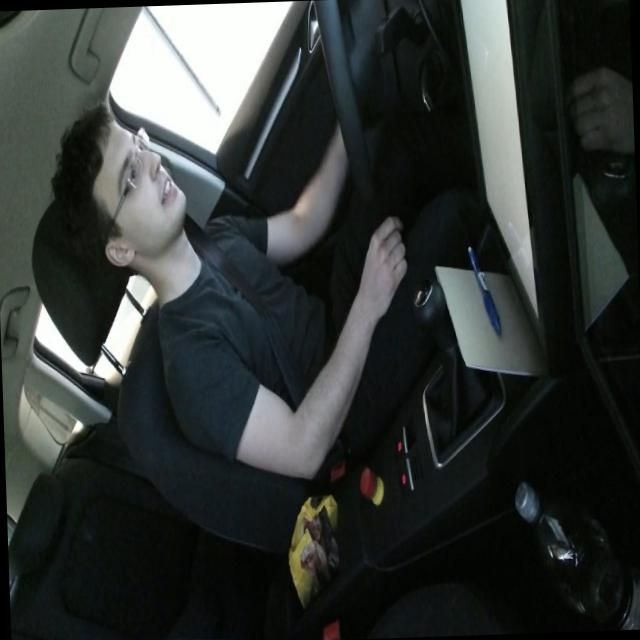pen: (466, 241, 502, 337)
